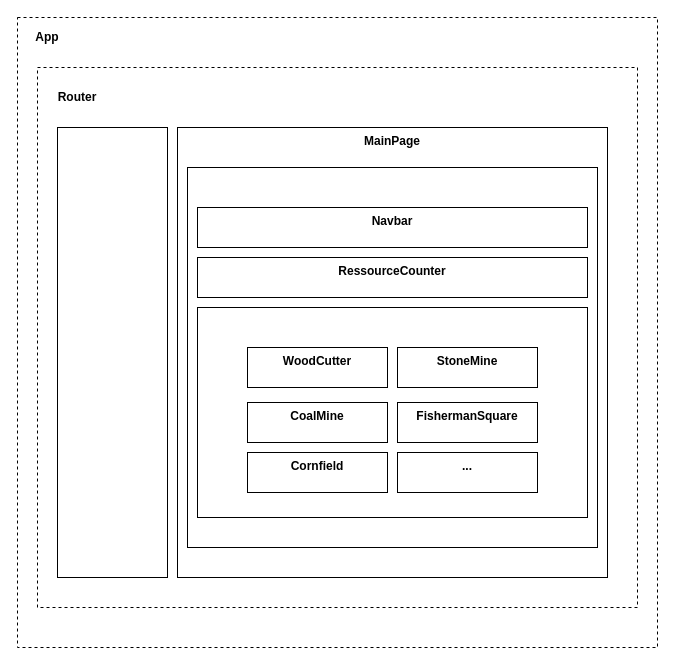
The diagram is 675 pixels wide and 665 high, and some of its shapes have lost their labels. Each missing label, with the box of its shape:
AboutPage ...: (56, 126, 168, 578)
Gameboard: (196, 306, 588, 518)
Layout: (186, 166, 598, 548)
